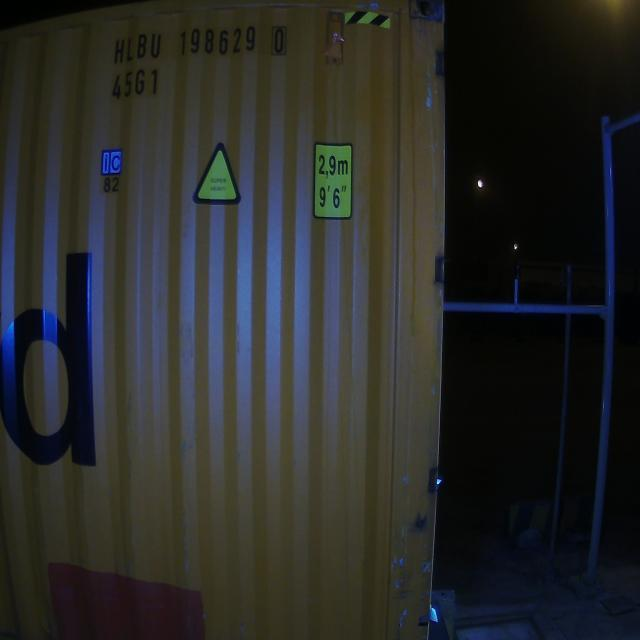ISO: (104, 70, 174, 100)
container_number: (101, 22, 296, 68)
